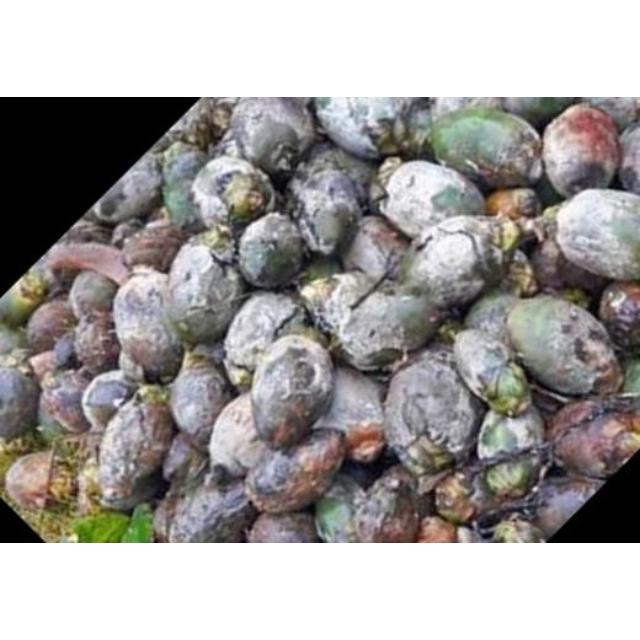damaged: (380, 350, 484, 476), (505, 296, 619, 398), (398, 216, 509, 312), (247, 334, 333, 450), (242, 424, 348, 516), (331, 286, 439, 372), (164, 242, 250, 346), (379, 160, 486, 240), (552, 188, 640, 284), (111, 273, 185, 381), (222, 292, 308, 380), (286, 165, 366, 258), (451, 328, 533, 418), (312, 366, 386, 462), (225, 98, 313, 176), (168, 471, 262, 544), (188, 156, 278, 232), (462, 444, 556, 516), (313, 98, 415, 160), (167, 352, 233, 446), (349, 466, 427, 544), (92, 151, 166, 225), (234, 213, 306, 289), (206, 393, 268, 479), (308, 271, 382, 343), (474, 402, 546, 476), (526, 474, 602, 538), (158, 145, 212, 229), (342, 216, 408, 284), (37, 366, 97, 436), (4, 450, 64, 516), (118, 222, 190, 276), (302, 144, 376, 196), (531, 231, 589, 293), (80, 368, 134, 434), (72, 306, 124, 374), (1, 366, 42, 444), (596, 279, 640, 351), (25, 299, 77, 356), (97, 468, 161, 514), (160, 430, 210, 488), (68, 268, 120, 320), (580, 98, 638, 132), (616, 122, 640, 198), (60, 217, 116, 249), (67, 428, 106, 472), (21, 251, 59, 293), (74, 472, 105, 520), (429, 98, 495, 120), (151, 493, 179, 543), (606, 431, 640, 471), (118, 348, 148, 386), (208, 136, 246, 166), (28, 350, 61, 382), (0, 324, 28, 361), (541, 202, 565, 222), (454, 524, 478, 544)
